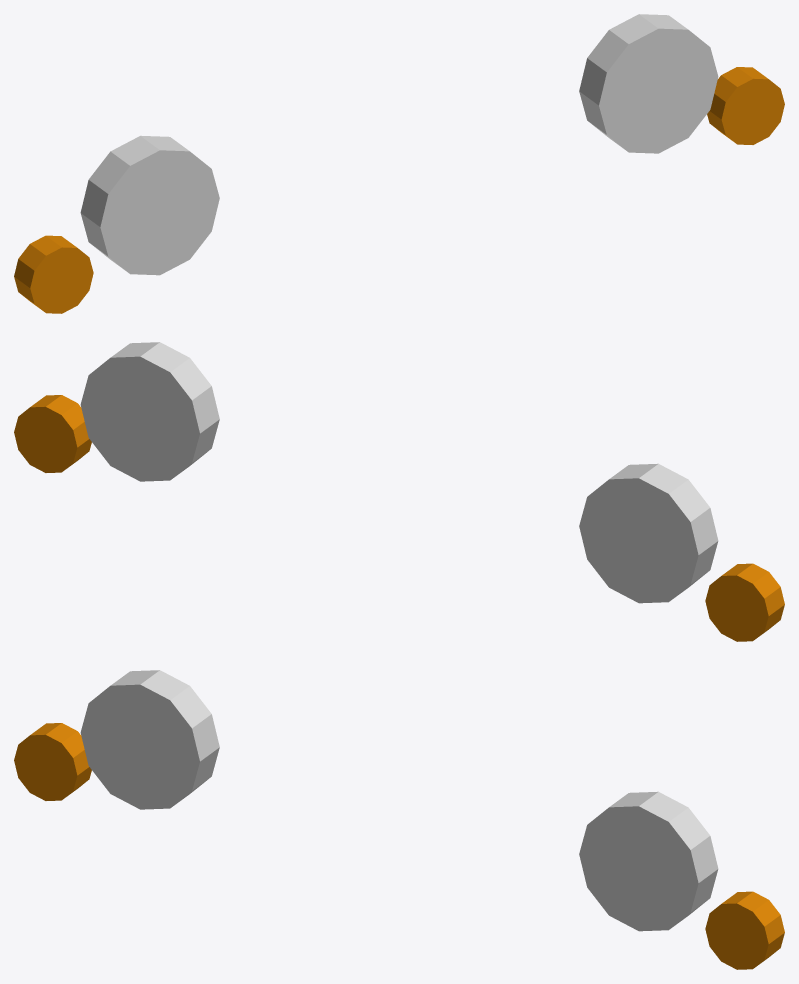
Rendered from Front_Lights_Basic.glb.
3 views of the same model, one above another, from view 1: azimuth 30°, elevation 25°; view 2: azimuth 150°, elevation 25°; view 3: azimuth 330°, elevation 25° (orthographic).
Parts seen in each view (by area): view 1: Front_Lights_Basic, Turn_Light_Left_Basic, Turn_Light_Right_Basic; view 2: Front_Lights_Basic, Turn_Light_Left_Basic, Turn_Light_Right_Basic; view 3: Front_Lights_Basic, Turn_Light_Right_Basic, Turn_Light_Left_Basic.
Part boxes in pixels (left/top/right/bottom): Front_Lights_Basic: left=80, top=14, right=718, bottom=275; Turn_Light_Left_Basic: left=14, top=235, right=93, bottom=313; Turn_Light_Right_Basic: left=707, top=67, right=784, bottom=144; Front_Lights_Basic: left=80, top=342, right=718, bottom=603; Turn_Light_Left_Basic: left=705, top=563, right=784, bottom=641; Turn_Light_Right_Basic: left=14, top=395, right=91, bottom=472; Front_Lights_Basic: left=80, top=670, right=718, bottom=931; Turn_Light_Right_Basic: left=705, top=891, right=784, bottom=969; Turn_Light_Left_Basic: left=14, top=723, right=91, bottom=800.
Bounding box in the file's own units: 1.07 × 0.1918 × 0.0487.
